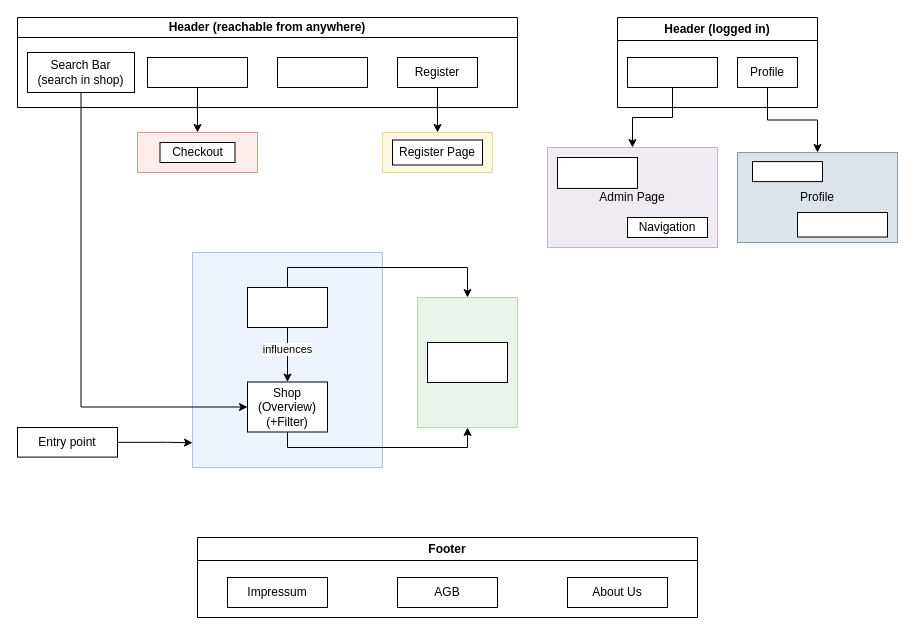
This 915x635 diagram has some shape labels left out. Each missing label, with the centre of its shape:
"Admin-View (if admin)" goes at (672,72).
"Buy history" goes at (787,171).
"Cart" goes at (197,72).
"Login" goes at (322,72).
"Payment details" goes at (842,224).
"Product (Detailview)" goes at (467,362).
"Product-Table (CRUD)" goes at (597,172).
"Specials" goes at (287,307).
